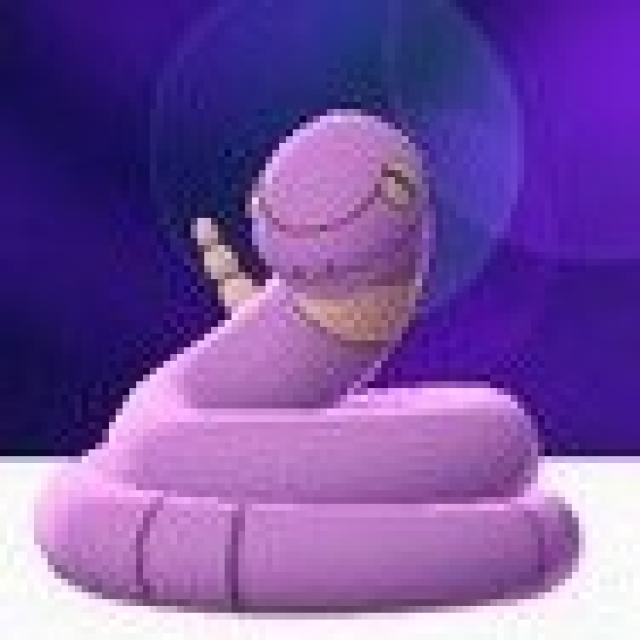Ekans: (23, 103, 587, 625)
